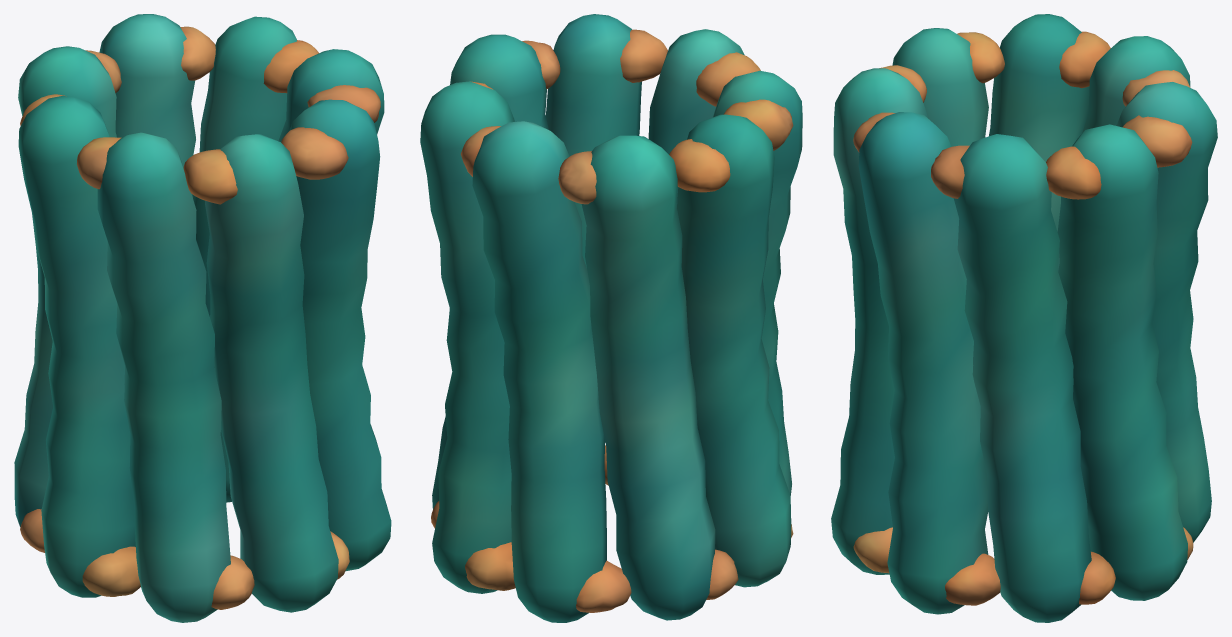
Rendered from channel-protein.glb.
3 renders of one model, left to right at view 1: azimuth 30°, elevation 25°; view 2: azimuth 150°, elevation 25°; view 3: azimuth 270°, elevation 25°, orthographic.
Parts seen in each view (by area): view 1: channel-protein-helices, channel-protein-loops; view 2: channel-protein-helices, channel-protein-loops; view 3: channel-protein-helices, channel-protein-loops.
Boxes of the visible parts, x1=… form: channel-protein-helices: x1=14, y1=14, x2=391, y2=622; channel-protein-loops: x1=20, y1=26, x2=380, y2=609; channel-protein-helices: x1=420, y1=14, x2=802, y2=622; channel-protein-loops: x1=431, y1=29, x2=793, y2=612; channel-protein-helices: x1=831, y1=14, x2=1217, y2=622; channel-protein-loops: x1=853, y1=31, x2=1193, y2=605.
Size of what is drawn, in the model's own units: 1.07 by 1.48 by 1.07.
